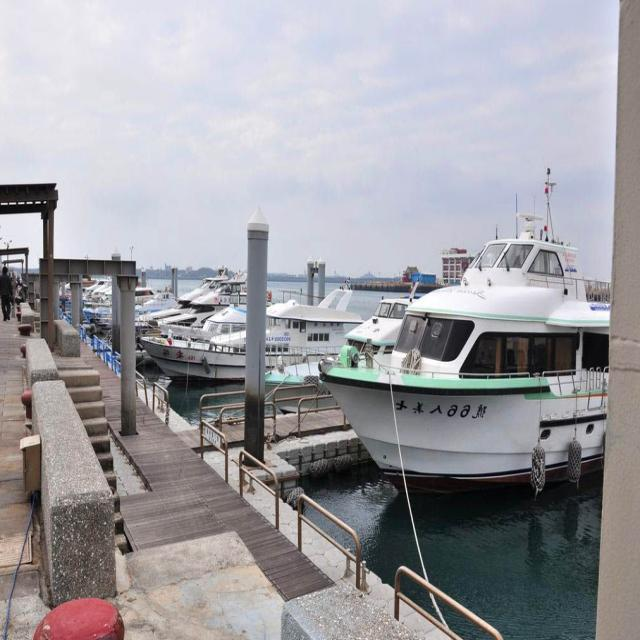houseboat: (318, 219, 605, 495), (145, 326, 263, 393)
